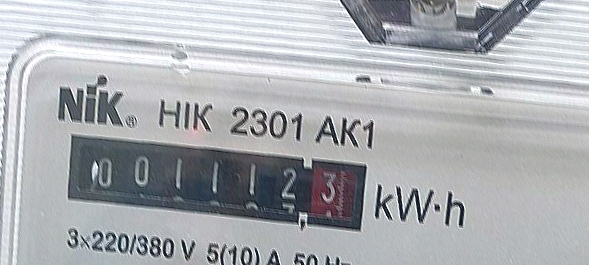0: (125, 152, 152, 192), (89, 154, 116, 191)
1: (165, 154, 187, 194), (202, 158, 221, 198), (240, 161, 259, 200)
2: (273, 166, 300, 204)
3: (314, 170, 337, 207)
screen: (53, 123, 374, 245)
